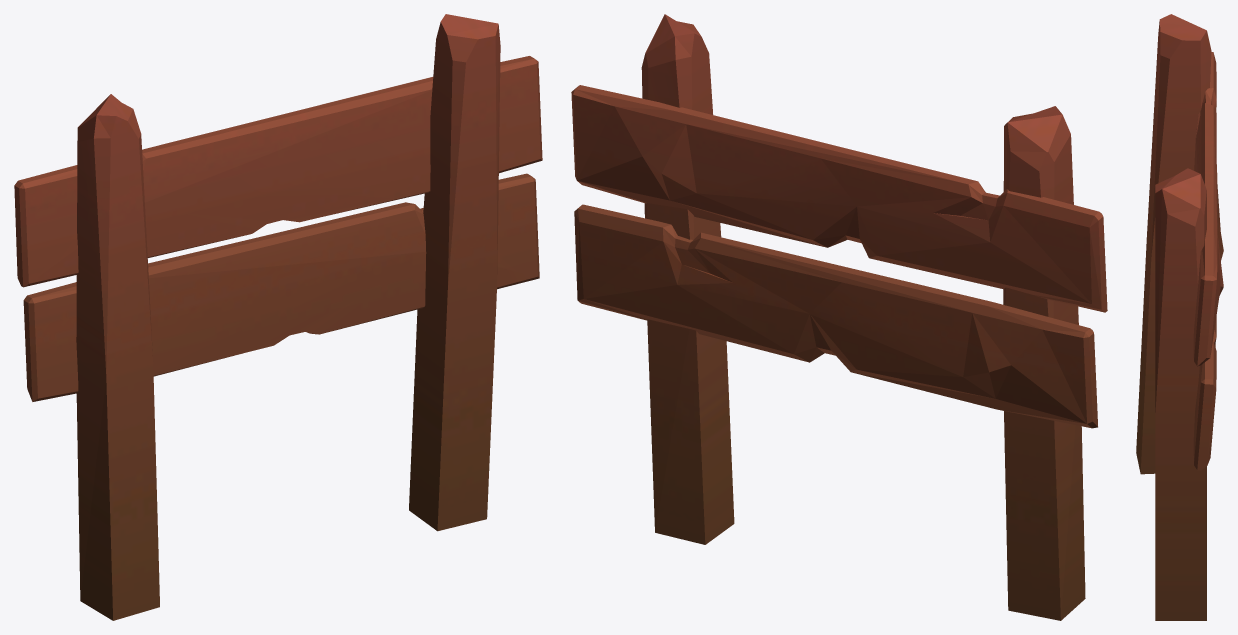
3 views of the same model, side by side, from view 1: azimuth 30°, elevation 25°; view 2: azimuth 150°, elevation 25°; view 3: azimuth 270°, elevation 25° (orthographic). The views are drawn at different scales.
Parts seen in each view (by area): view 1: Fence1; view 2: Fence1; view 3: Fence1.
Part boxes in pixels (x1=…): Fence1: x1=14, y1=14, x2=542, y2=620; Fence1: x1=571, y1=14, x2=1107, y2=620; Fence1: x1=1136, y1=14, x2=1223, y2=620.
Size of the model in its own units: 1.6 by 1.45 by 0.2615.
Materials: 1 (1 with a texture image).
